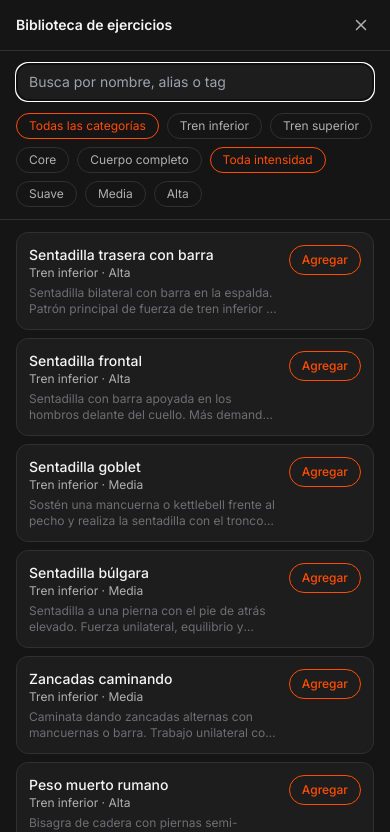
Scenario: ExerciseLibraryBrowser › lista el catálogo del deporte y filtra desde el primer carácter
In the field named "Buscar en la biblioteca": (195,82) [16,63,374,101], type "%"
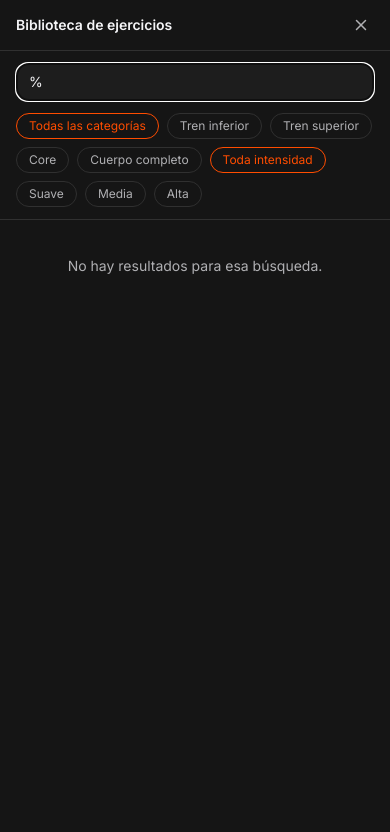
expect no list items with test id "library-entry" are shown: met
expect the text "No hay resultados para esa búsqueda." is shown: met, box [68,257,322,274]
